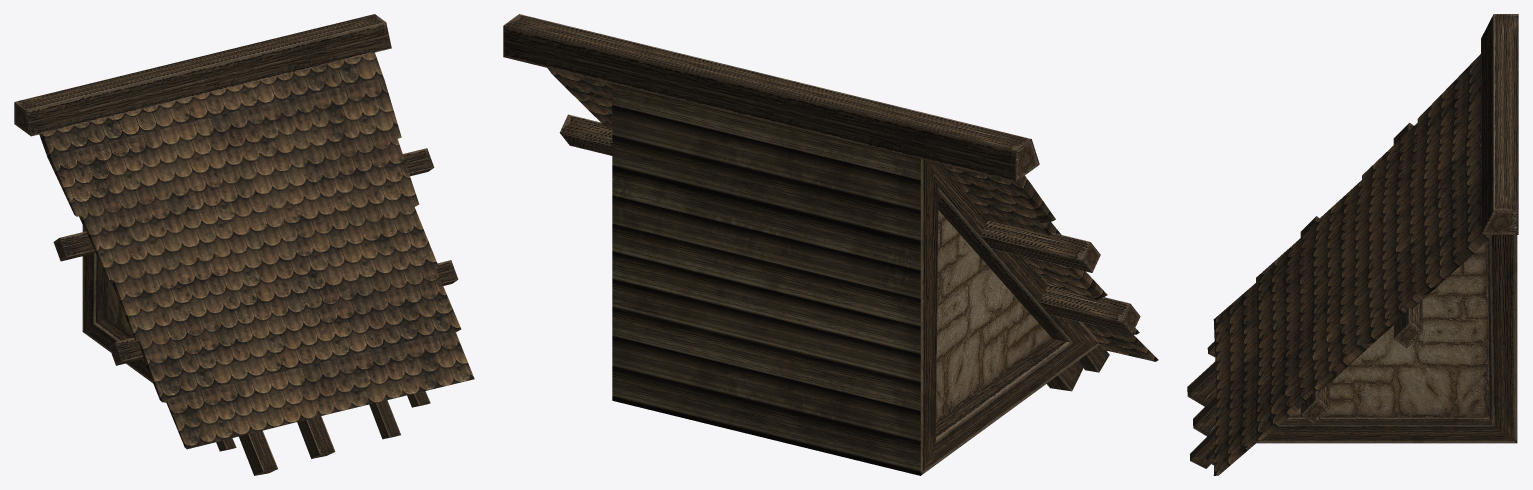
Rendered from Roof_6X6_02b.fbx.
3 renders of one model, left to right at view 1: azimuth 30°, elevation 25°; view 2: azimuth 150°, elevation 25°; view 3: azimuth 270°, elevation 25°, orthographic. The views are drawn at different scales.
Visible parts, largest first — view 1: Roof_6X6_02b; view 2: Roof_6X6_02b; view 3: Roof_6X6_02b.
Boxes of the visible parts, x1,y1,x2,y2 form: Roof_6X6_02b: (14,14,474,475); Roof_6X6_02b: (503,14,1158,475); Roof_6X6_02b: (1187,14,1518,475).
Size of the model in its own units: 10.16 by 7.85 by 7.11.
